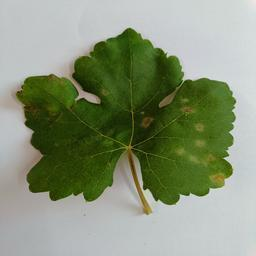Powdery-Mildew: (171, 119, 214, 171), (99, 130, 116, 147), (179, 98, 195, 115), (46, 101, 63, 117), (100, 85, 116, 101), (136, 112, 152, 128)
